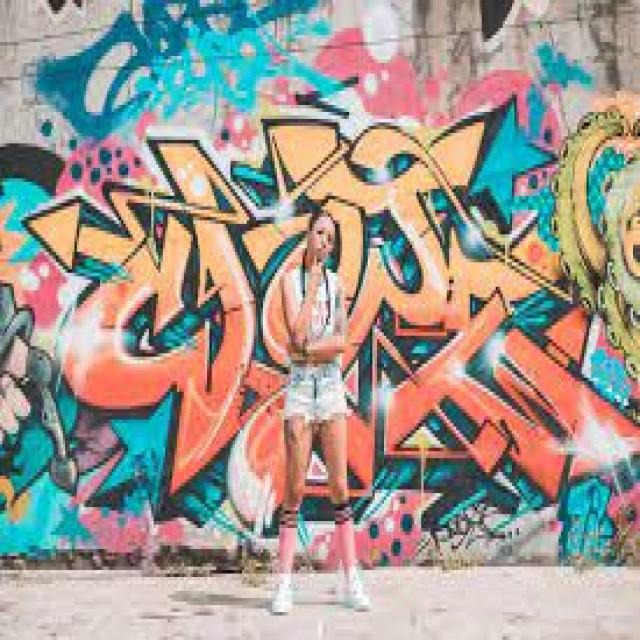-: (0, 106, 640, 528), (34, 0, 348, 144)
